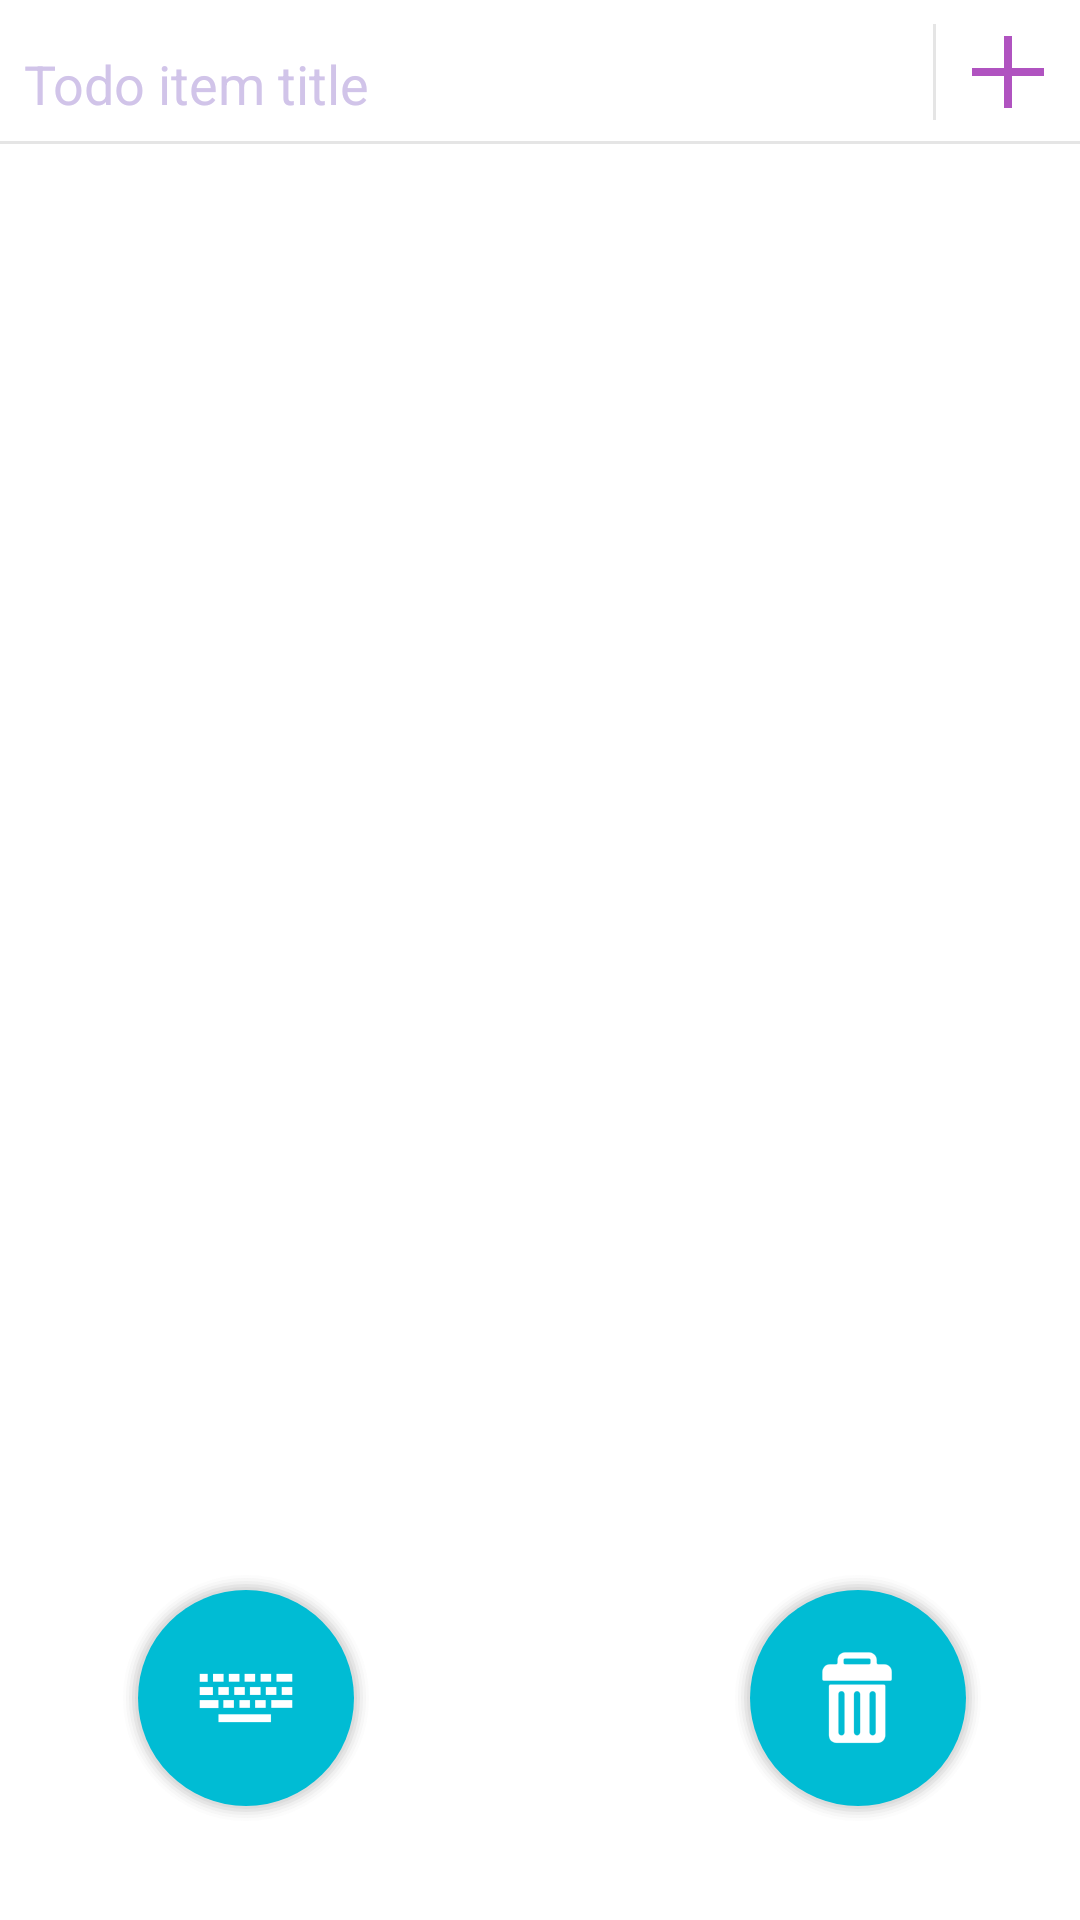

Icon click points for this 1080 x 1920 phone screenshot, format (x,y):
add: (1008,72)
content delete: (858,1698)
hardware keyboard: (246,1698)
